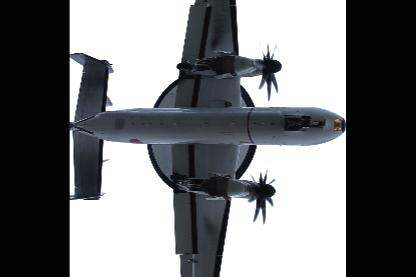C5: (69, 0, 347, 275)
